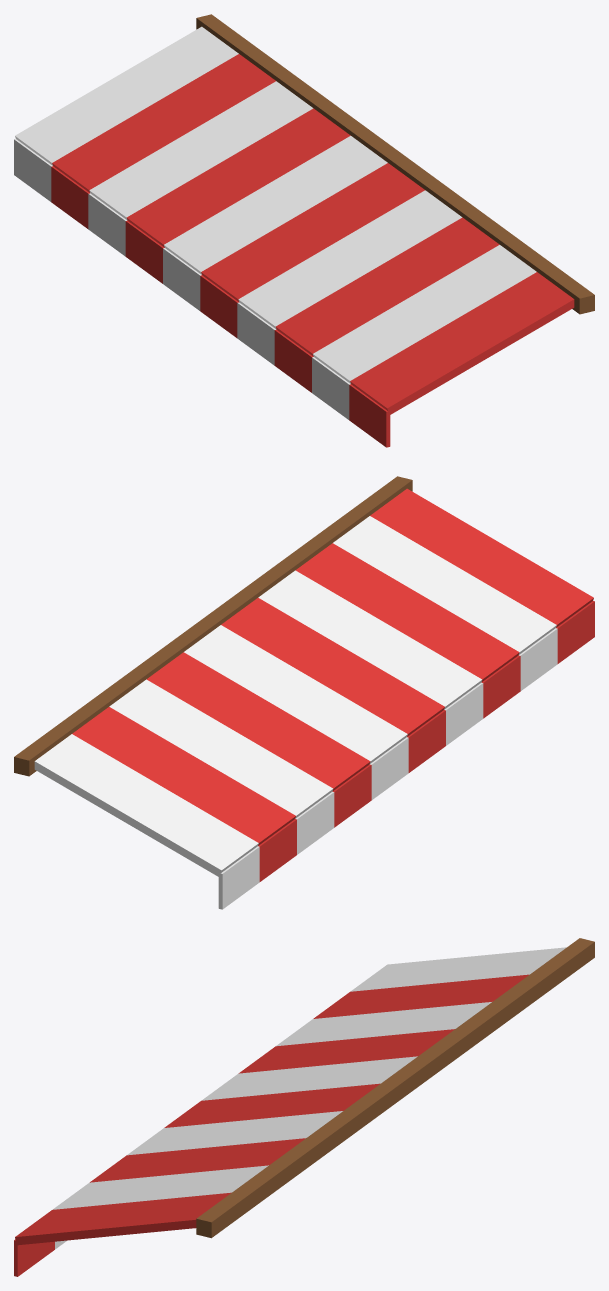
The model's file is Tente.fbx.
3 renders of one model, top to bottom at view 1: azimuth 30°, elevation 25°; view 2: azimuth 150°, elevation 25°; view 3: azimuth 330°, elevation 25°, orthographic.
Visible parts, largest first — view 1: Tente; view 2: Tente; view 3: Tente.
Boxes of the visible parts, x1=… form: Tente: x1=14, y1=14, x2=594, y2=447; Tente: x1=14, y1=476, x2=594, y2=909; Tente: x1=14, y1=938, x2=594, y2=1276.
Size of the model in its own units: 107 by 54 by 350.
